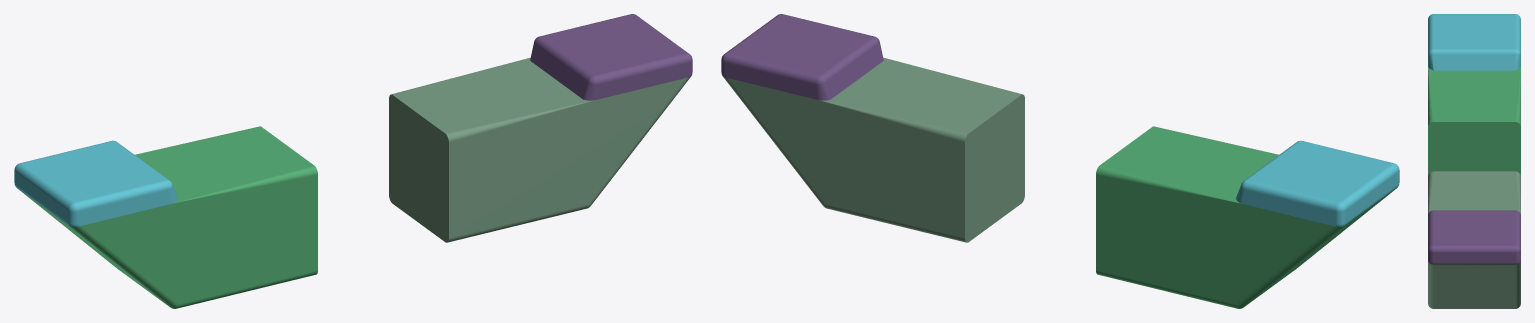
File: 1_body.obj
The picture shows the model from 3 angles, left to right: view 1: azimuth 30°, elevation 25°; view 2: azimuth 150°, elevation 25°; view 3: azimuth 270°, elevation 25°; orthographic projection. The views are drawn at different scales.
Parts seen in each view (by area): view 1: geometry_0, geometry_3, geometry_1, geometry_2; view 2: geometry_0, geometry_3, geometry_1, geometry_2; view 3: geometry_3, geometry_0, geometry_2, geometry_1.
Boxes of the visible parts, x1=… form: geometry_0: x1=389, y1=57, x2=691, y2=242; geometry_3: x1=16, y1=126, x2=317, y2=308; geometry_1: x1=530, y1=14, x2=692, y2=100; geometry_2: x1=14, y1=140, x2=178, y2=226; geometry_0: x1=722, y1=57, x2=1024, y2=242; geometry_3: x1=1096, y1=126, x2=1397, y2=308; geometry_1: x1=721, y1=14, x2=883, y2=100; geometry_2: x1=1235, y1=140, x2=1399, y2=226; geometry_3: x1=1428, y1=67, x2=1520, y2=175; geometry_0: x1=1428, y1=171, x2=1520, y2=308; geometry_2: x1=1428, y1=14, x2=1520, y2=70; geometry_1: x1=1428, y1=210, x2=1520, y2=263.
Size of the model in its own units: 0.2286 by 0.0457 by 0.0381.
